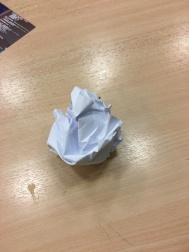paper_white: (38, 78, 134, 179)
